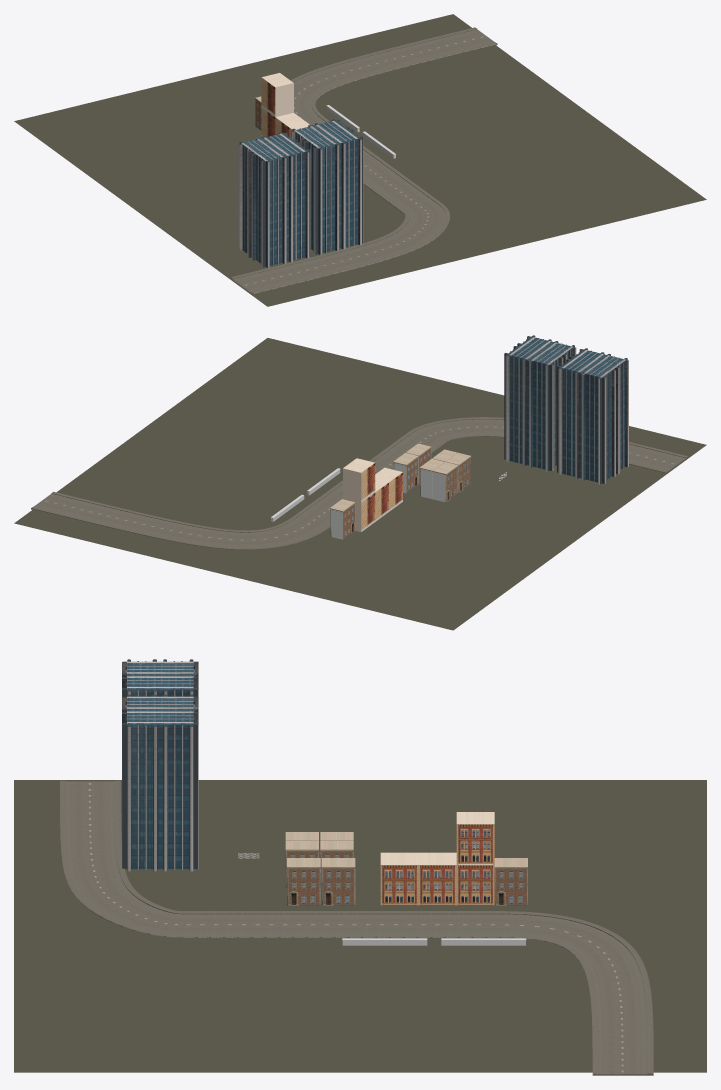
3 renders of one model, top to bottom at view 1: azimuth 30°, elevation 25°; view 2: azimuth 150°, elevation 25°; view 3: azimuth 270°, elevation 25°, orthographic. The views are drawn at different scales.
Parts seen in each view (by area): view 1: Plane, Cube, Plane.008, Plane.006, Plane.005; view 2: Plane, Cube, Plane.008, Plane.006, Plane.005, Plane.007, Plane.012, Plane.009, Plane.002, Plane.004, Plane.013, Plane.011 (+1 smaller); view 3: Plane, Cube, Plane.006, Plane.008, Plane.002, Plane.003, Plane.005, Plane.009, Plane.007, Plane.001, Plane.004, Cube.001 (+1 smaller).
Boxes of the visible parts, <box> form: Plane: <box>14,14,706,306</box>; Cube: <box>230,27,497,293</box>; Plane.008: <box>238,132,310,267</box>; Plane.006: <box>291,119,363,254</box>; Plane.005: <box>261,73,293,117</box>; Plane: <box>14,338,706,630</box>; Cube: <box>31,417,687,549</box>; Plane.008: <box>557,348,628,484</box>; Plane.006: <box>504,335,576,471</box>; Plane.005: <box>343,458,375,502</box>; Plane.007: <box>330,499,355,539</box>; Plane.012: <box>433,462,458,502</box>; Plane.009: <box>393,453,418,493</box>; Plane.002: <box>375,467,402,511</box>; Plane.004: <box>343,493,375,531</box>; Plane.013: <box>446,452,471,492</box>; Plane.011: <box>419,458,444,499</box>; Plane: <box>14,780,706,1072</box>; Cube: <box>60,780,653,1075</box>; Plane.006: <box>122,694,198,871</box>; Plane.008: <box>122,659,198,696</box>; Plane.002: <box>380,852,418,905</box>; Plane.003: <box>418,852,456,905</box>; Plane.005: <box>456,812,494,864</box>; Plane.009: <box>321,858,355,905</box>; Plane.007: <box>494,858,527,905</box>; Plane.001: <box>287,858,320,905</box>; Plane.004: <box>456,864,494,905</box>; Cube.001: <box>342,938,427,945</box>.
Size of the model in its own units: 201 by 46.77 by 200.
5 materials, 4 textured.
